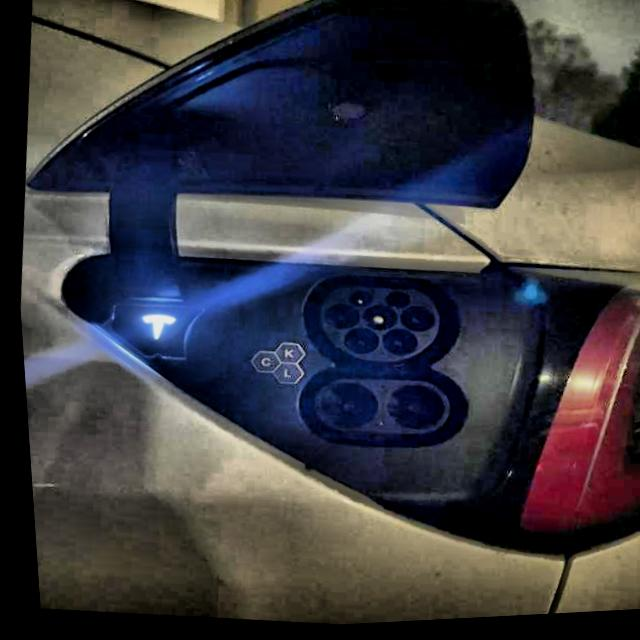inlet: (315, 291, 434, 365)
inlet-above-left: (343, 293, 368, 310)
inlet-above-right: (380, 295, 405, 312)
inlet-below-left: (338, 331, 373, 357)
inlet-below-right: (377, 332, 412, 359)
inlet-center: (357, 308, 392, 334)
inlet-center-left: (320, 306, 354, 332)
inlet-center-right: (395, 310, 430, 335)
